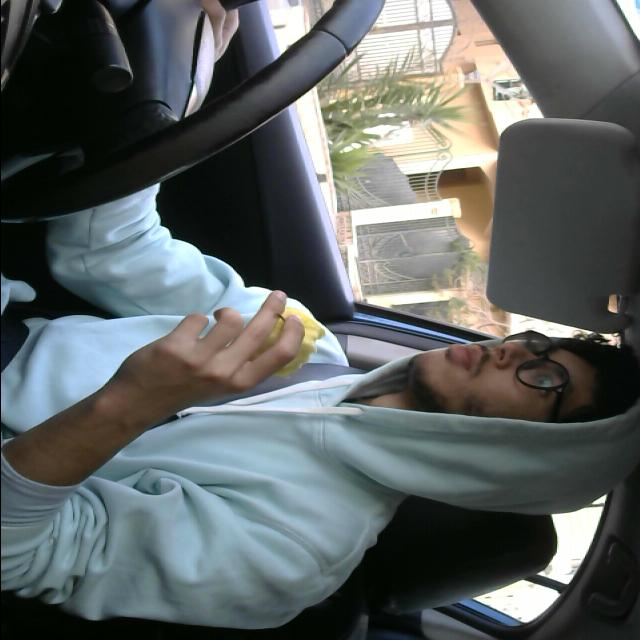eating: (255, 300, 335, 380)
